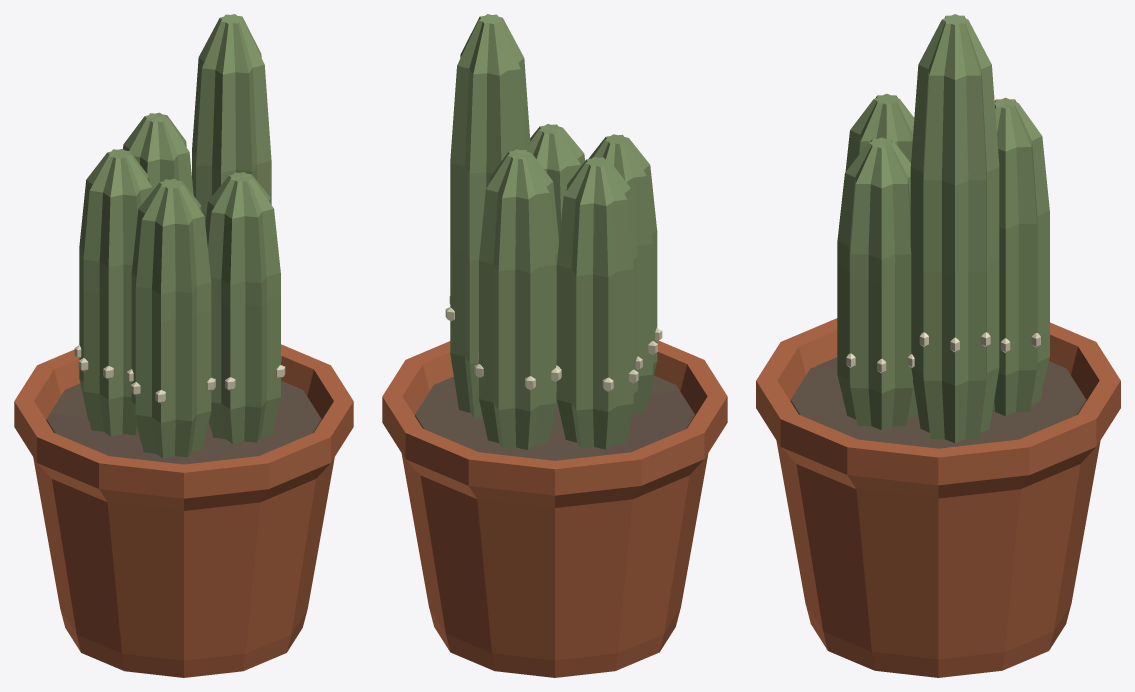
The model's file is new-gracilis.glb.
3 views of the same model, side by side, from view 1: azimuth 30°, elevation 25°; view 2: azimuth 150°, elevation 25°; view 3: azimuth 270°, elevation 25° (orthographic). The views are drawn at different scales.
Visible parts, largest first — view 1: new-gracilis/review-terra-vessel, new-gracilis/ribbed-stem-022, new-gracilis/ribbed-stem-029, new-gracilis/ribbed-stem-015, new-gracilis/ribbed-stem-001, new-gracilis/review-rooted-soil, new-gracilis/ribbed-stem-008; view 2: new-gracilis/review-terra-vessel, new-gracilis/ribbed-stem-008, new-gracilis/ribbed-stem-015, new-gracilis/ribbed-stem-001, new-gracilis/review-rooted-soil, new-gracilis/ribbed-stem-022, new-gracilis/ribbed-stem-029; view 3: new-gracilis/review-terra-vessel, new-gracilis/ribbed-stem-001, new-gracilis/ribbed-stem-029, new-gracilis/ribbed-stem-008, new-gracilis/review-rooted-soil, new-gracilis/ribbed-stem-022.
Part boxes in pixels (<box>): new-gracilis/review-terra-vessel: <box>14,344,353,677</box>; new-gracilis/ribbed-stem-022: <box>131,178,211,458</box>; new-gracilis/ribbed-stem-029: <box>205,172,280,443</box>; new-gracilis/ribbed-stem-015: <box>79,149,152,436</box>; new-gracilis/ribbed-stem-001: <box>192,14,271,223</box>; new-gracilis/review-rooted-soil: <box>46,380,321,464</box>; new-gracilis/ribbed-stem-008: <box>123,112,193,195</box>; new-gracilis/review-terra-vessel: <box>382,341,727,677</box>; new-gracilis/ribbed-stem-008: <box>479,149,558,449</box>; new-gracilis/ribbed-stem-015: <box>556,157,637,449</box>; new-gracilis/ribbed-stem-001: <box>450,14,530,418</box>; new-gracilis/review-rooted-soil: <box>415,375,694,460</box>; new-gracilis/ribbed-stem-022: <box>588,134,657,413</box>; new-gracilis/ribbed-stem-029: <box>530,124,584,241</box>; new-gracilis/review-terra-vessel: <box>756,318,1120,677</box>; new-gracilis/ribbed-stem-001: <box>910,14,999,443</box>; new-gracilis/ribbed-stem-029: <box>837,137,917,430</box>; new-gracilis/ribbed-stem-008: <box>992,97,1049,415</box>; new-gracilis/review-rooted-soil: <box>790,357,1086,448</box>; new-gracilis/ribbed-stem-022: <box>845,93,914,171</box>.
Size of the model in its own units: 0.19 by 0.3642 by 0.19.
Materials: 4 (4 with a texture image).
